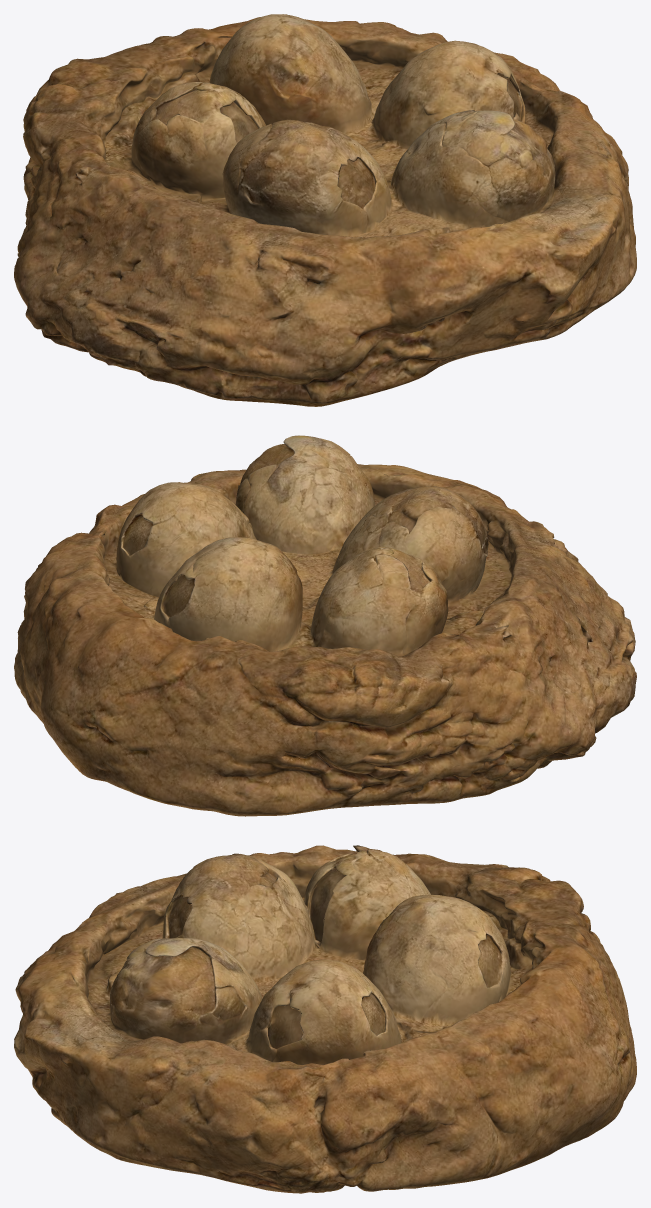
File: dinosaur_egg_nest.glb
The picture shows the model from 3 angles, top to bottom: view 1: azimuth 30°, elevation 25°; view 2: azimuth 150°, elevation 25°; view 3: azimuth 270°, elevation 25°; orthographic projection. The views are drawn at different scales.
Parts seen in each view (by area): view 1: tripo_node_66de4cc3-ece3-4a30-9c21-dc92104e3734; view 2: tripo_node_66de4cc3-ece3-4a30-9c21-dc92104e3734; view 3: tripo_node_66de4cc3-ece3-4a30-9c21-dc92104e3734.
Boxes of the visible parts, <box> form: tripo_node_66de4cc3-ece3-4a30-9c21-dc92104e3734: <box>14,14,636,406</box>; tripo_node_66de4cc3-ece3-4a30-9c21-dc92104e3734: <box>14,435,636,816</box>; tripo_node_66de4cc3-ece3-4a30-9c21-dc92104e3734: <box>14,845,636,1193</box>.
Bounding box in the file's own units: 0.9805 × 0.3572 × 0.9765.
Materials: 1 (1 with a texture image).
